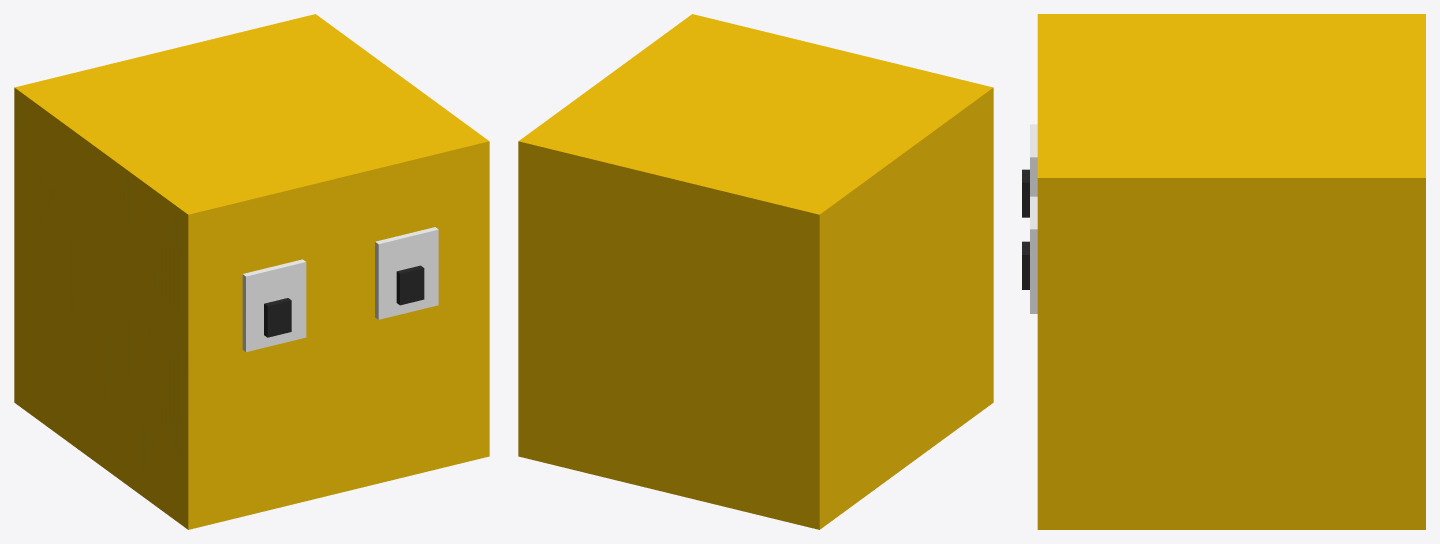
Rendered from lingo-2021.glb.
3 renders of one model, left to right at view 1: azimuth 30°, elevation 25°; view 2: azimuth 150°, elevation 25°; view 3: azimuth 270°, elevation 25°, orthographic. The views are drawn at different scales.
Parts seen in each view (by area): view 1: Remy; view 2: Remy; view 3: Remy.
Boxes of the visible parts, bbox=[...] form: Remy: bbox=[14, 14, 489, 529]; Remy: bbox=[518, 14, 993, 529]; Remy: bbox=[1022, 14, 1425, 529].
Bounding box in the file's own units: 1 × 1 × 1.04.
